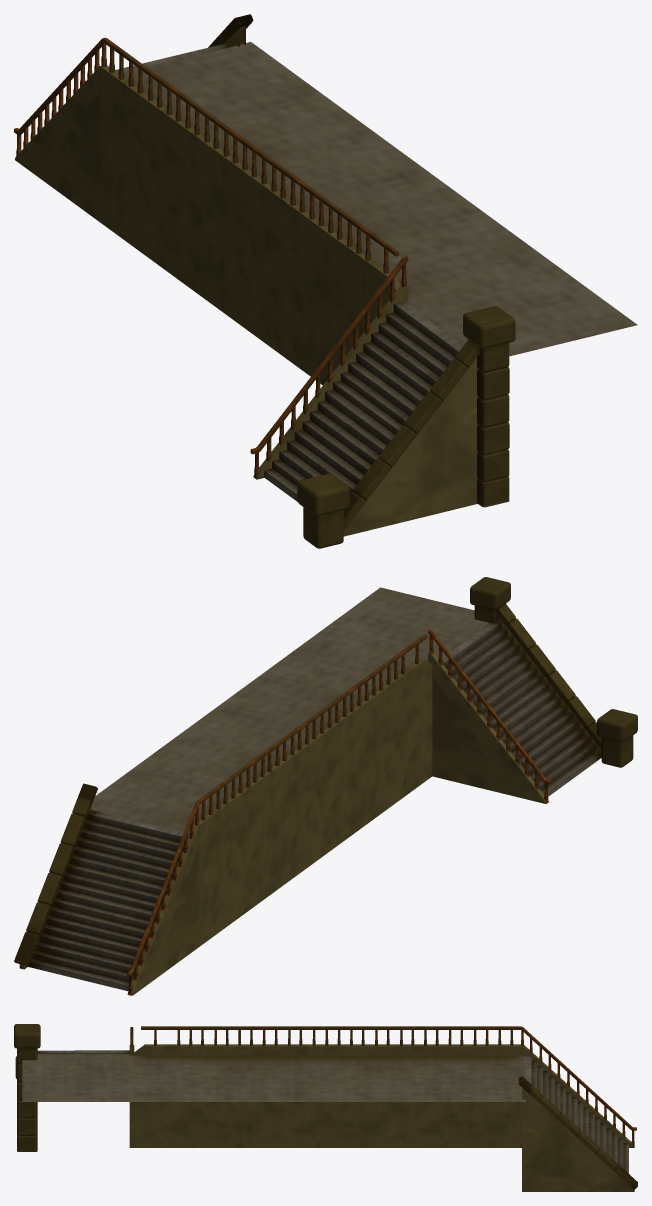
File: Library_Ladder3.fbx
The picture shows the model from 3 angles, top to bottom: view 1: azimuth 30°, elevation 25°; view 2: azimuth 150°, elevation 25°; view 3: azimuth 270°, elevation 25°; orthographic projection. The views are drawn at different scales.
Visible parts, largest first — view 1: Library_Ladder3; view 2: Library_Ladder3; view 3: Library_Ladder3.
Part boxes in pixels (x1,y1,x2,y2): Library_Ladder3: [14, 14, 637, 548]; Library_Ladder3: [14, 577, 637, 995]; Library_Ladder3: [14, 1024, 637, 1191].
Size of the model in its own units: 964 by 526 by 2451.
